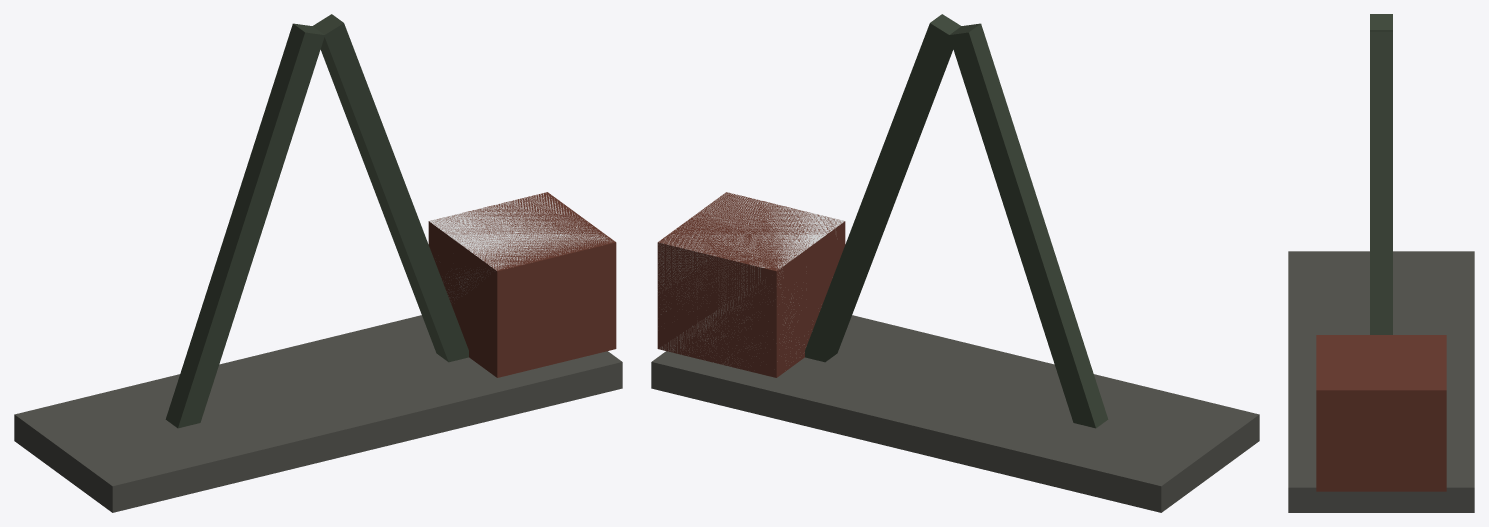
File: mark-pumpjack.glb
3 views of the same model, side by side, from view 1: azimuth 30°, elevation 25°; view 2: azimuth 150°, elevation 25°; view 3: azimuth 270°, elevation 25° (orthographic). The views are drawn at different scales.
Visible parts, largest first — view 1: 00_#55554f, 01_#3c4638, 02_#6a3a2e_r320, solid; view 2: 00_#55554f, 02_#6a3a2e_r320, 01_#3c4638, solid; view 3: 00_#55554f, 02_#6a3a2e_r320, 01_#3c4638.
Boxes of the visible parts, <box> form: 00_#55554f: <box>14,315,622,512</box>; 01_#3c4638: <box>165,14,468,428</box>; 02_#6a3a2e_r320: <box>428,192,616,377</box>; solid: <box>429,193,611,297</box>; 00_#55554f: <box>651,315,1259,512</box>; 02_#6a3a2e_r320: <box>657,192,845,377</box>; 01_#3c4638: <box>805,14,1108,428</box>; solid: <box>658,192,844,364</box>; 00_#55554f: <box>1288,251,1474,512</box>; 02_#6a3a2e_r320: <box>1316,335,1446,491</box>; 01_#3c4638: <box>1370,14,1392,334</box>.
Size of the model in its own units: 6.1 by 4.41 by 2.
